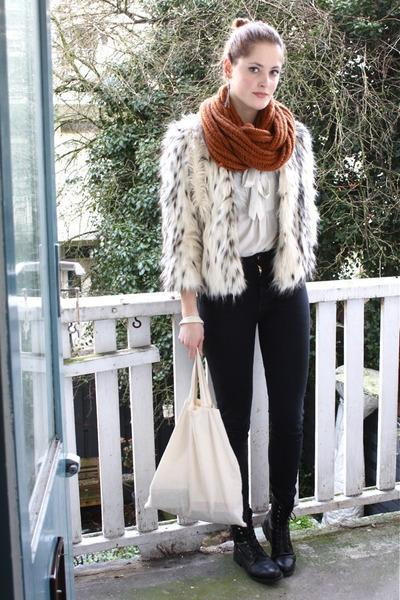bag: (156, 354, 246, 528)
jacket: (156, 113, 322, 298)
pants: (196, 252, 318, 512)
shoe: (228, 508, 295, 588)
